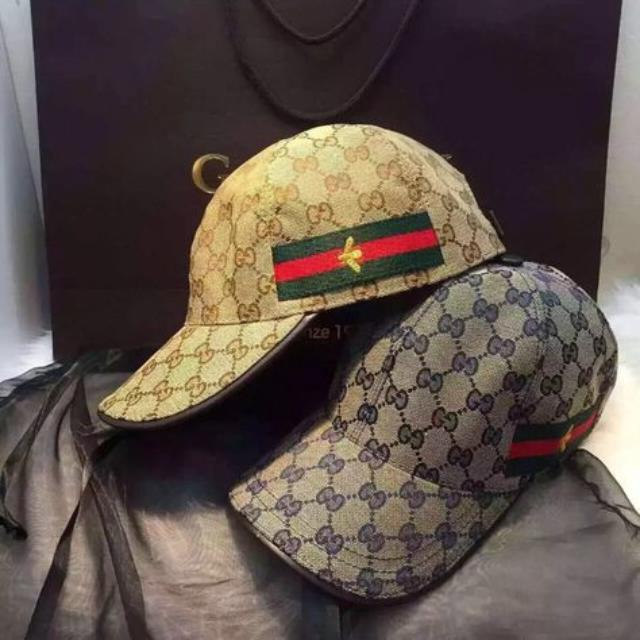Gucci: (334, 229, 376, 279), (552, 417, 590, 458)
